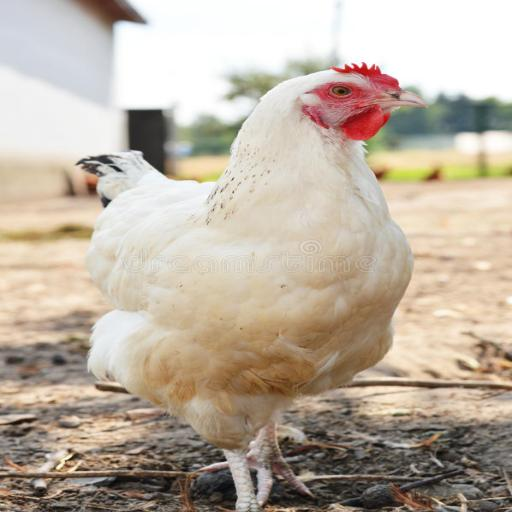healthy: (292, 59, 424, 141)
